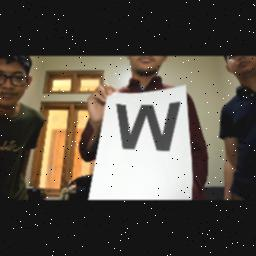w: (108, 98, 188, 154)
